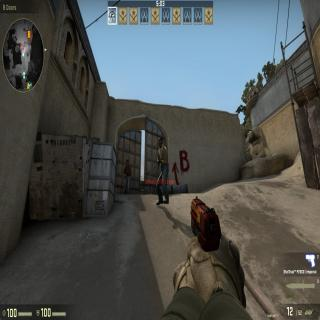T-Body: (152, 136, 172, 207), (121, 156, 135, 193)
T-Head: (156, 135, 165, 153), (124, 157, 132, 166)
